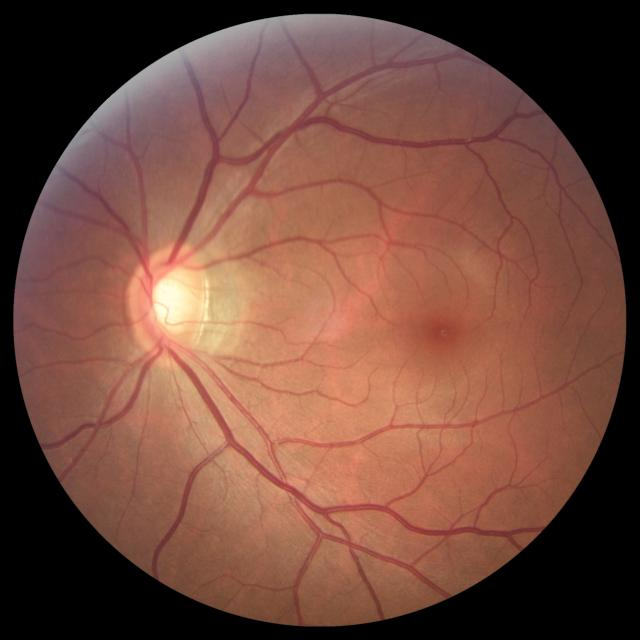OC: (148, 269, 192, 333)
OD: (128, 243, 208, 358)
